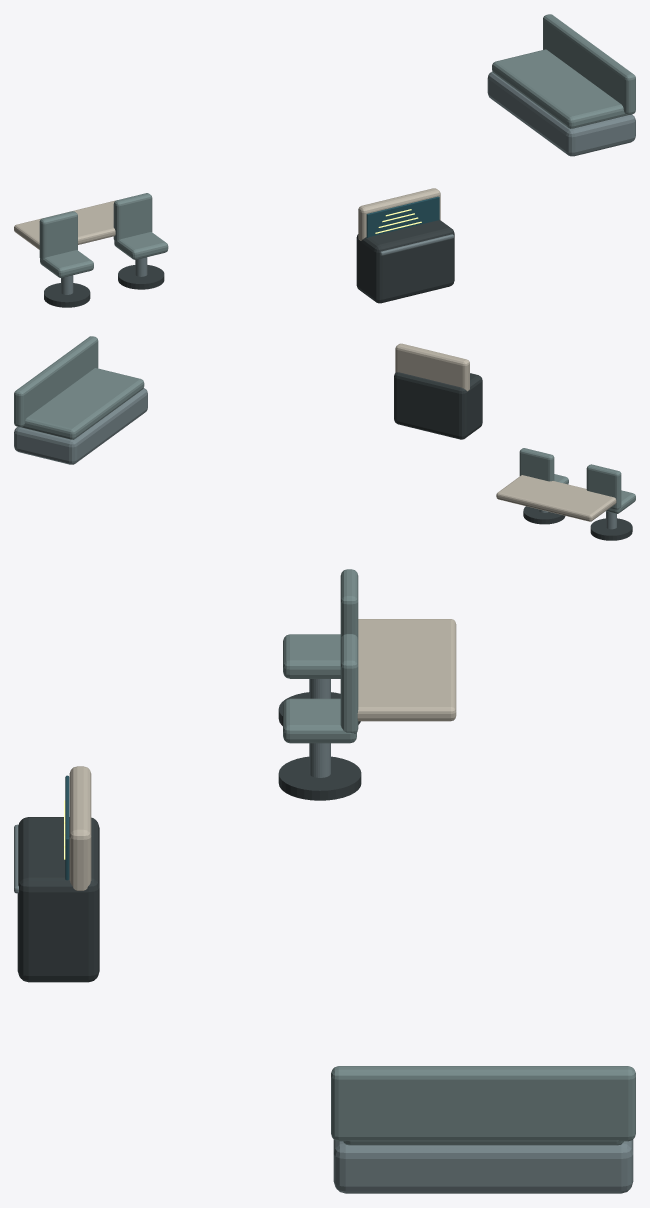
File: habitat-interior.glb
The picture shows the model from 3 angles, top to bottom: view 1: azimuth 30°, elevation 25°; view 2: azimuth 150°, elevation 25°; view 3: azimuth 270°, elevation 25°; orthographic projection. The views are drawn at different scales.
Visible parts, largest first — view 1: Furniture_Fabric, Furniture_Graphite, Furniture_Steel, Furniture_Ivory, Furniture_Glass; view 2: Furniture_Fabric, Furniture_Graphite, Furniture_Ivory, Furniture_Steel; view 3: Furniture_Fabric, Furniture_Steel, Furniture_Graphite, Furniture_Ivory.
Boxes of the visible parts, x1=… form: Furniture_Fabric: x1=39, y1=14, x2=635, y2=277; Furniture_Graphite: x1=44, y1=220, x2=454, y2=307; Furniture_Steel: x1=61, y1=71, x2=635, y2=294; Furniture_Ivory: x1=14, y1=188, x2=440, y2=249; Furniture_Glass: x1=366, y1=196, x2=439, y2=237; Furniture_Fabric: x1=14, y1=336, x2=635, y2=513; Furniture_Graphite: x1=394, y1=372, x2=632, y2=540; Furniture_Ivory: x1=395, y1=343, x2=616, y2=521; Furniture_Steel: x1=14, y1=378, x2=616, y2=529; Furniture_Fabric: x1=283, y1=569, x2=635, y2=1145; Furniture_Steel: x1=14, y1=679, x2=633, y2=1193; Furniture_Graphite: x1=17, y1=692, x2=361, y2=982; Furniture_Ivory: x1=69, y1=619, x2=456, y2=890.
Bounding box in the file's own units: 11.23 × 1.55 × 5.71.
